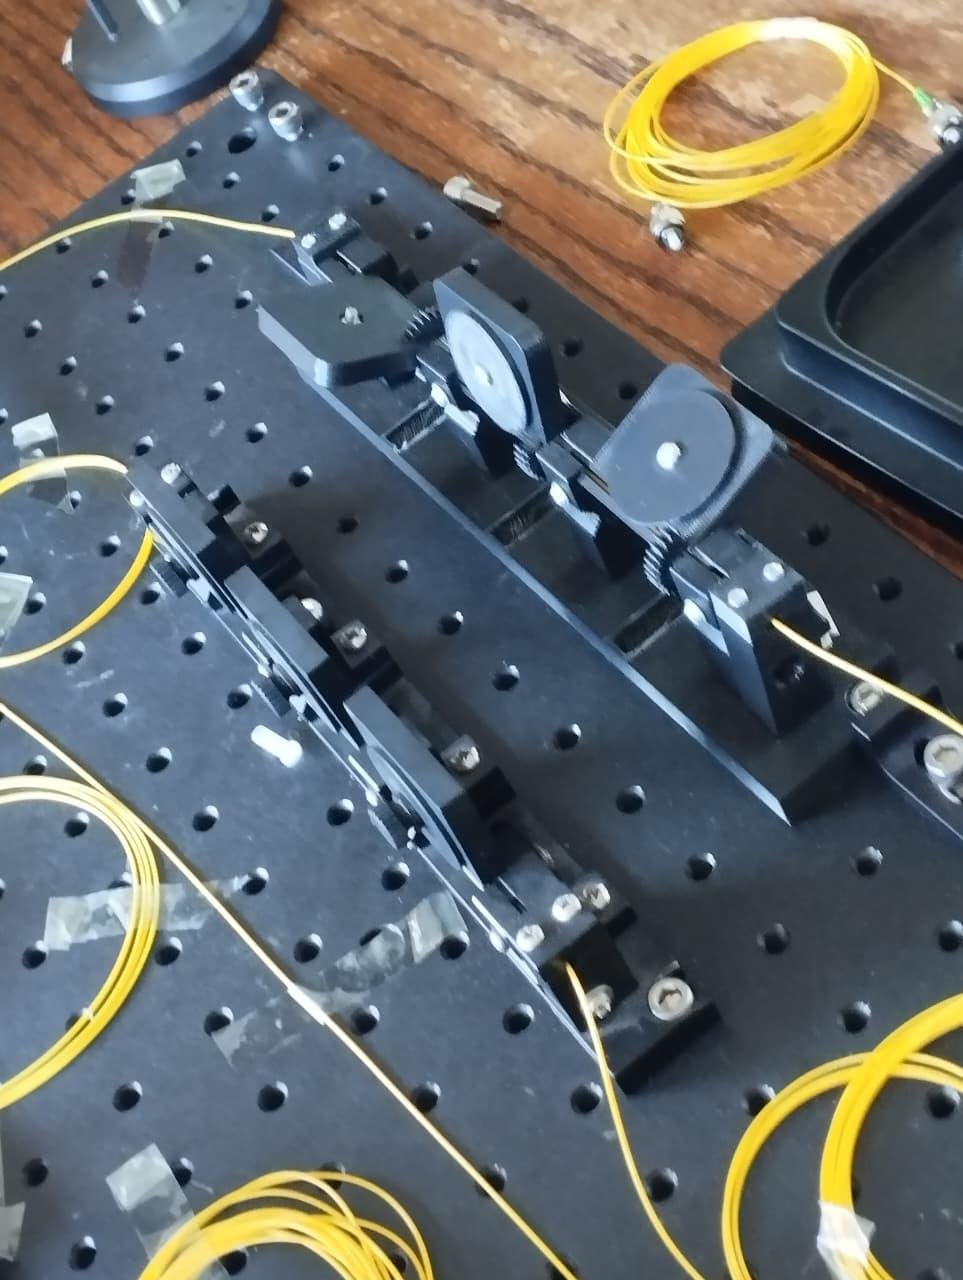fiber_cable: (595, 25, 963, 283), (0, 727, 195, 1136), (702, 985, 963, 1280), (123, 1114, 533, 1280), (0, 427, 180, 687)
paddle_polarization_controller: (201, 188, 962, 931), (90, 434, 802, 1173)
